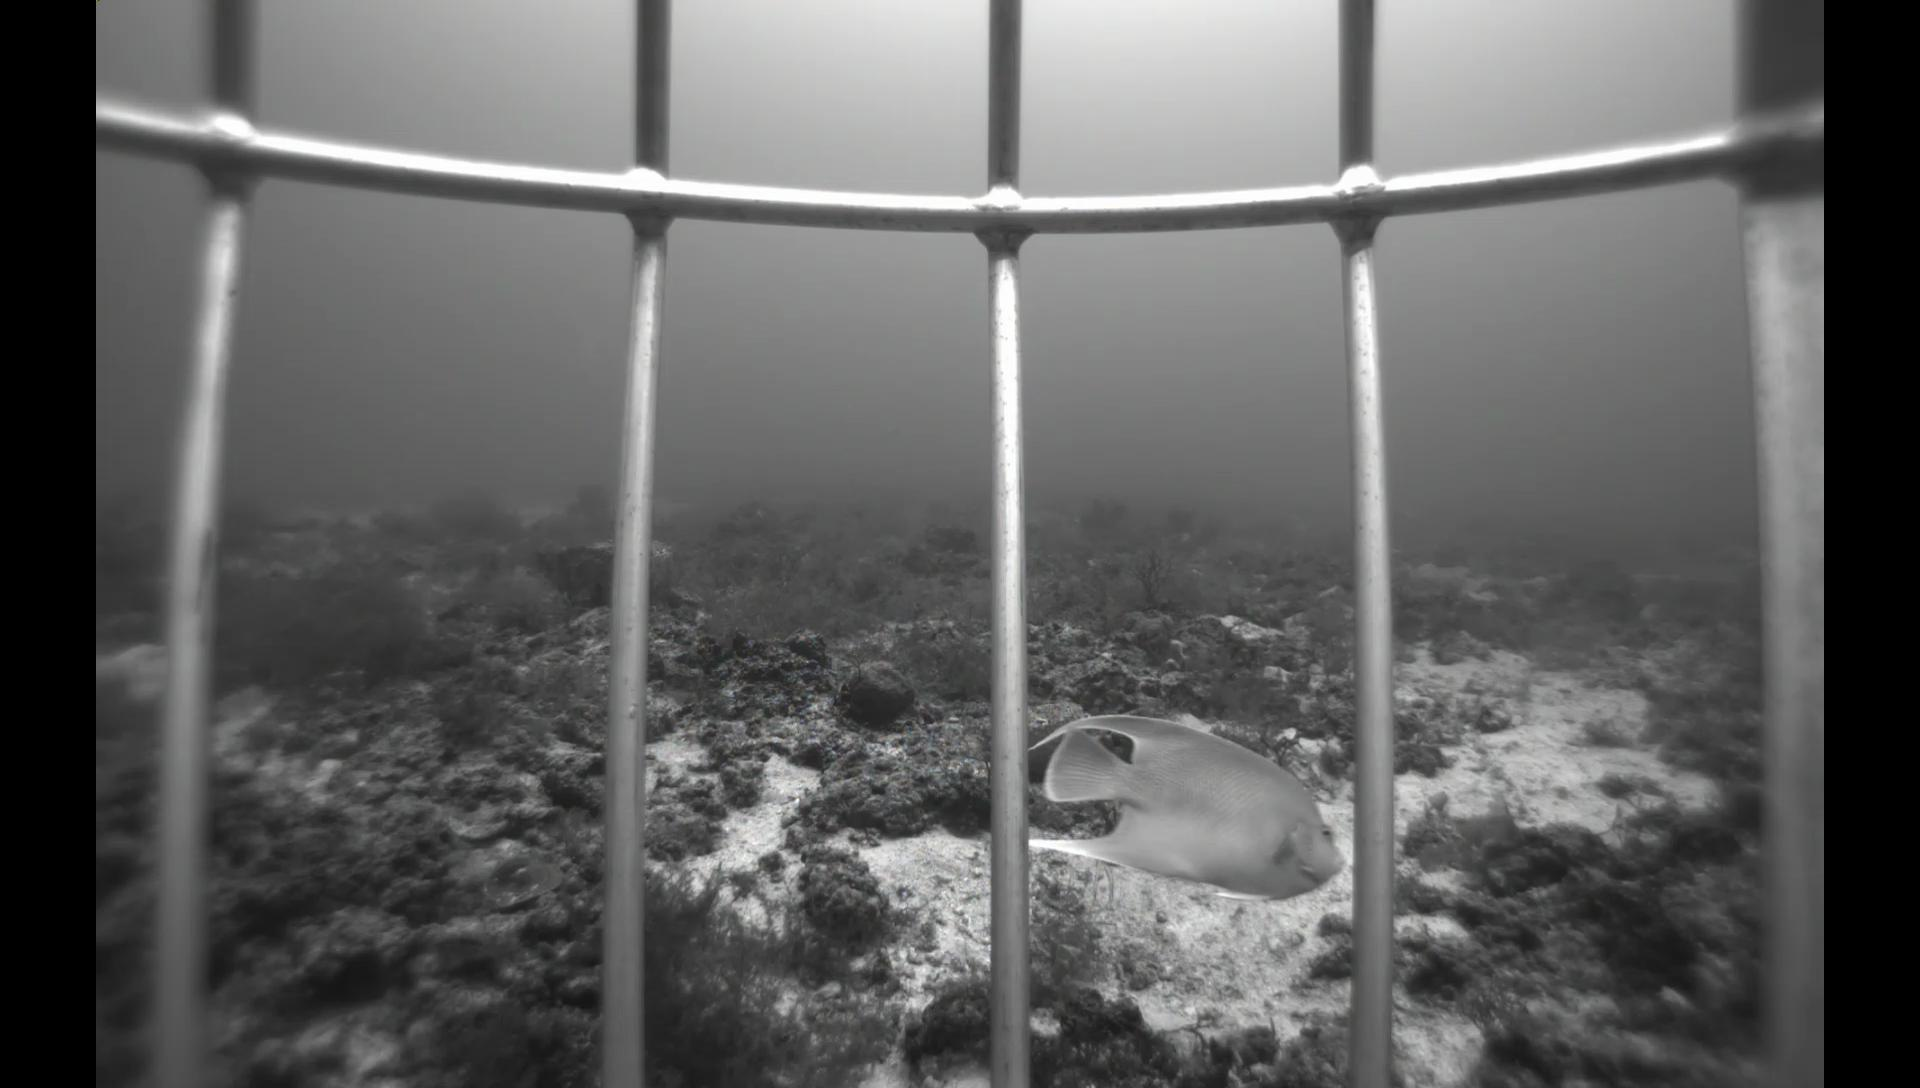HOLACANTHUSBERMUDENSIS-170290102: (1023, 703, 1349, 917), (1717, 538, 1759, 578)
SERRANUSANNULARIS-170024201: (415, 927, 524, 968)
